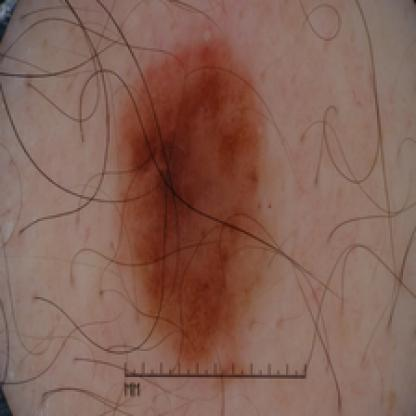malignant: (115, 52, 264, 334)
